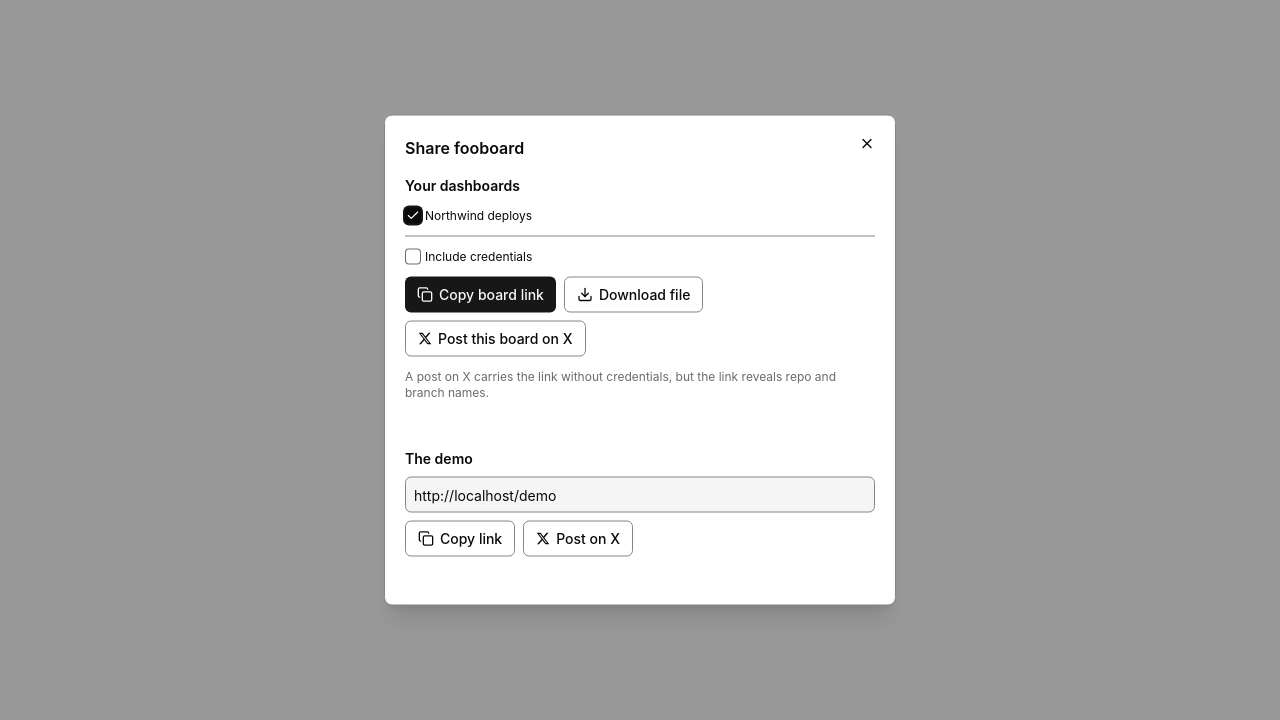
Scenario: sharing saved dashboards › says when the link could not be copied, or the share built
Click the button "Copy board link".
click(480, 294)  # box [405,276,556,312]
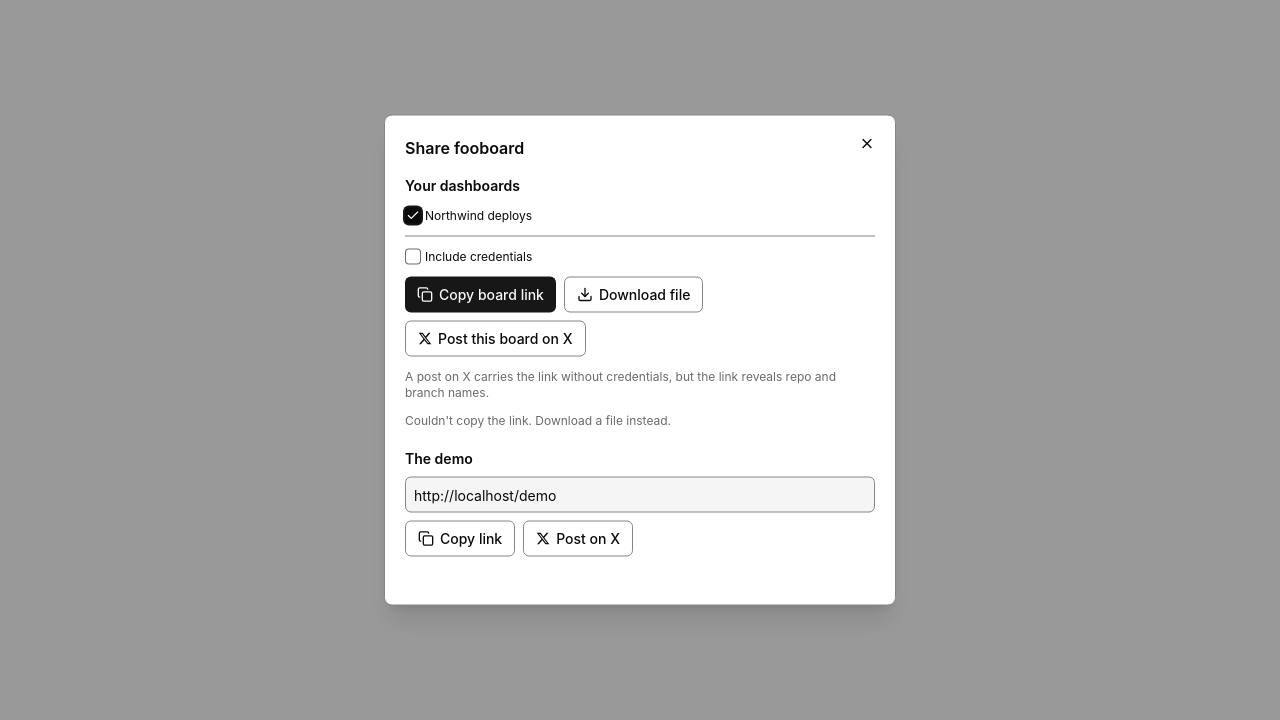
Now the message "Couldn't copy the link. Download a file instead." is shown, box [405,412,671,428]
Click the checkbox named "Include credentials" next to "Include credentials".
click(413, 256)  # box [405,248,421,264]
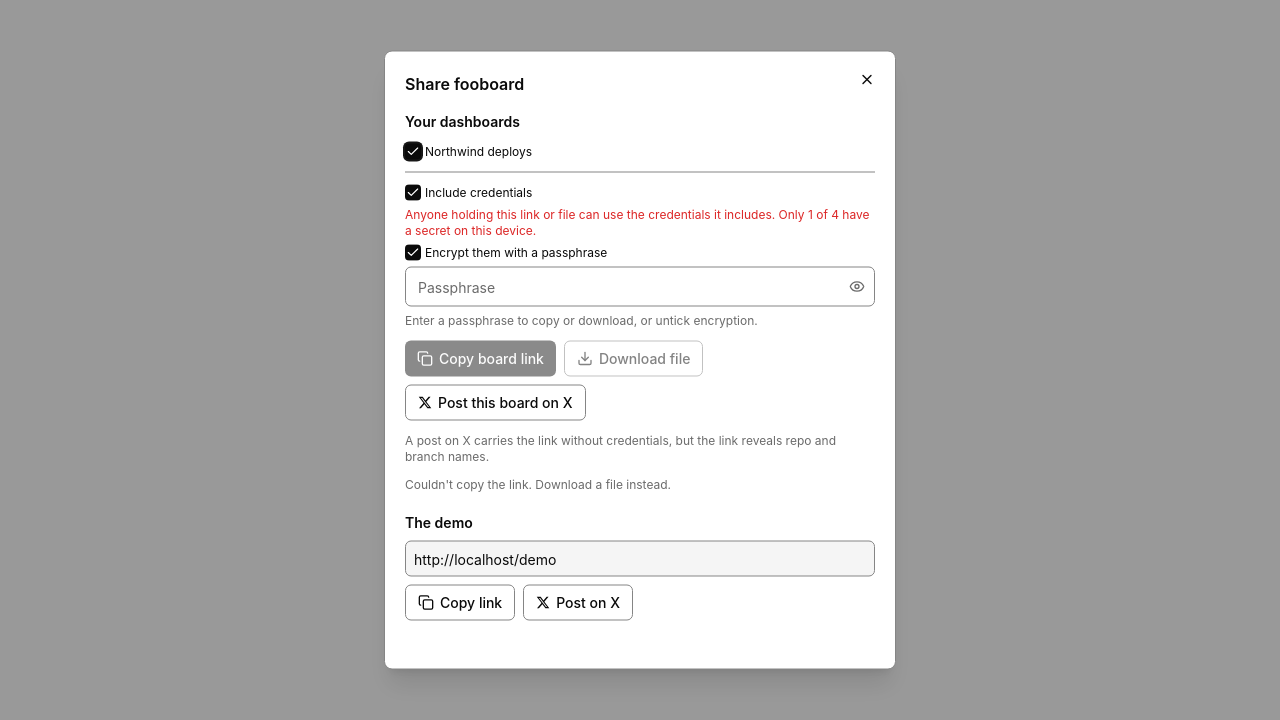
Type "p" into the password field labelled "Passphrase".
click(640, 286); type("p")  # box [405,266,875,306]
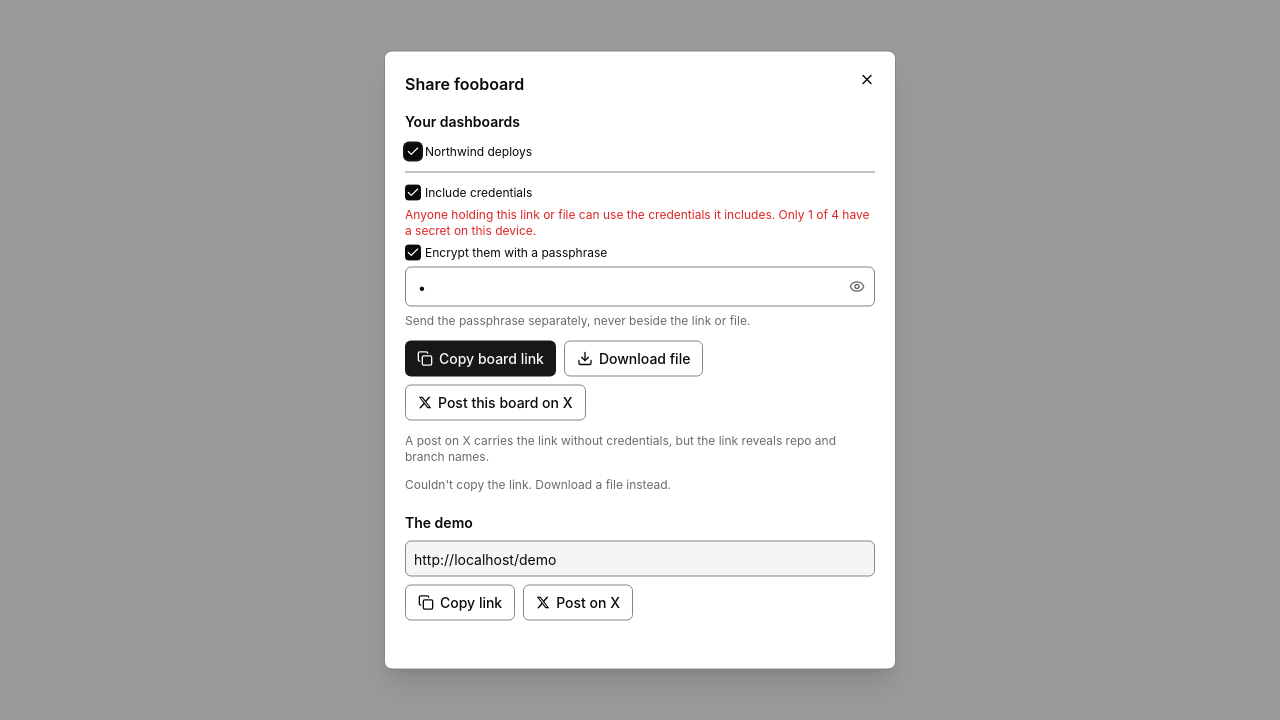
Click the button "Download file".
click(634, 358)  # box [564,340,703,376]
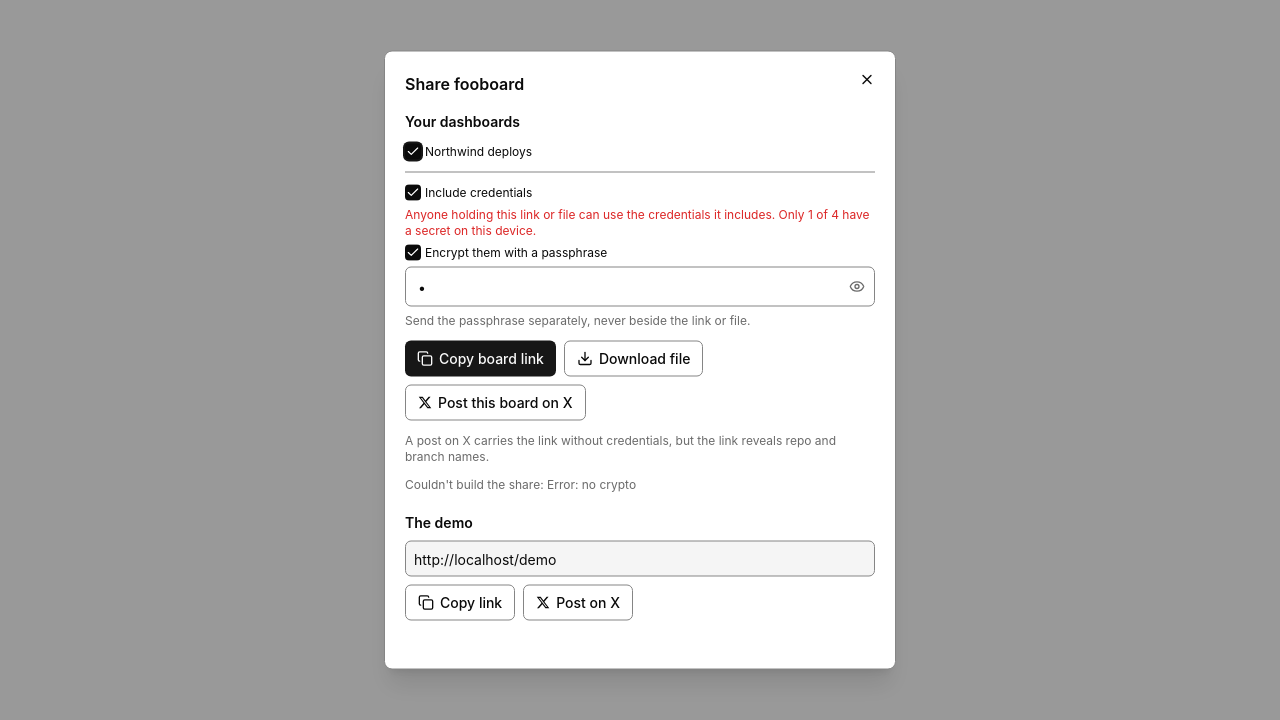
Now the message "Couldn't build the share: Error: no crypto" is shown, box [405,476,636,492]
